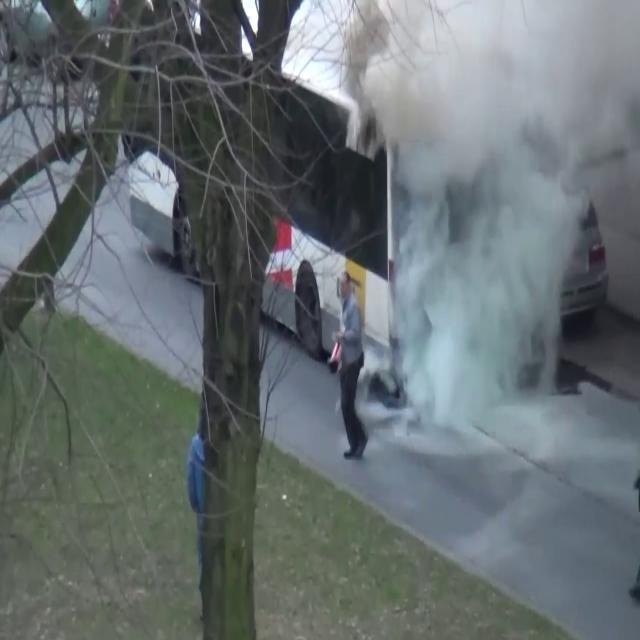Smoke: (355, 0, 640, 474)
